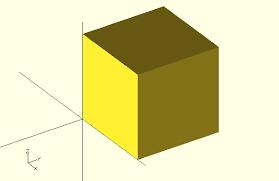cubos: (80, 3, 225, 162)
